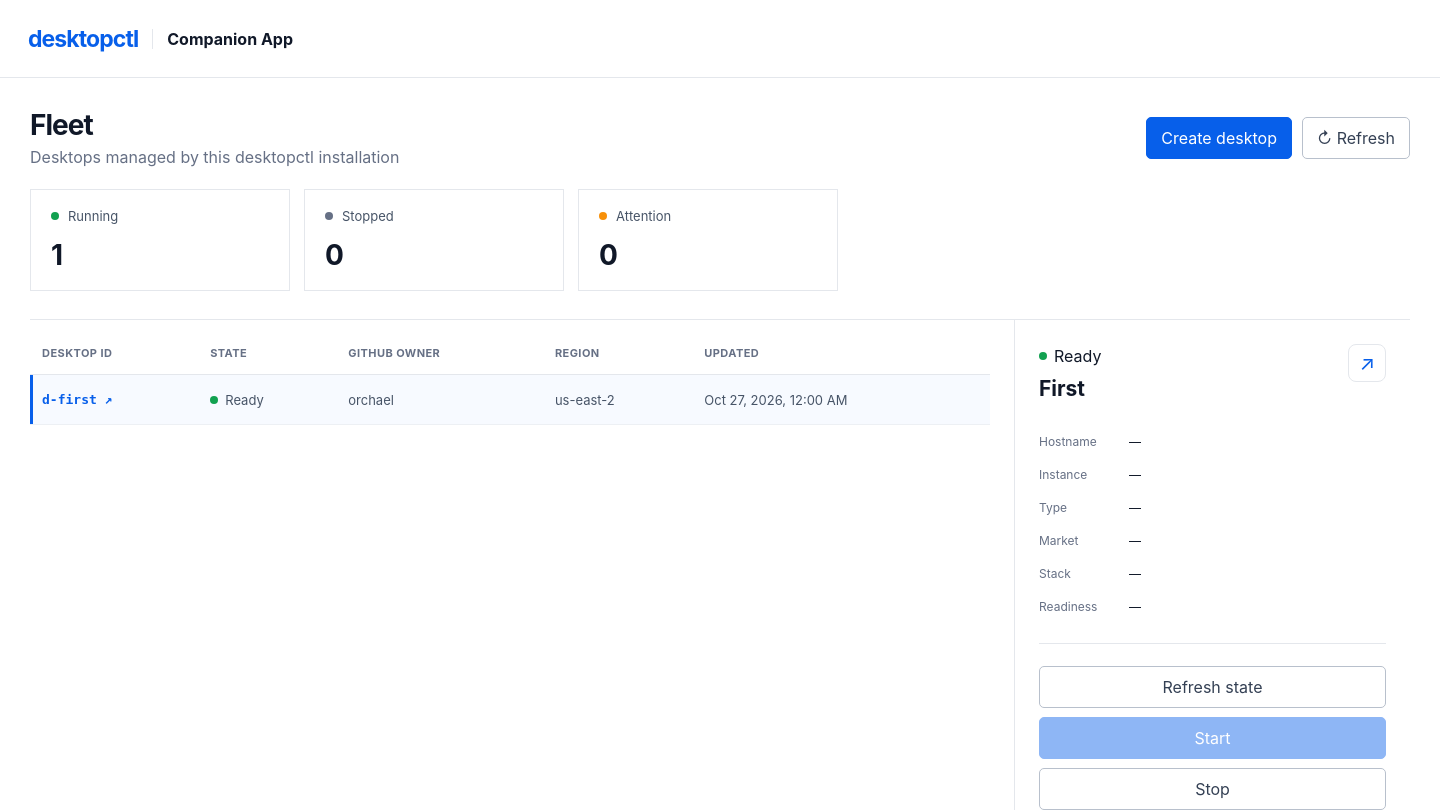
Test case: runs a lifecycle action from the selected desktop card
The image size is (1440, 810).
What coordinates should you click on to do the following:
click the button "Stop"
I would click on:
 (1212, 789)
Its box is 1039,768 -> 1386,809.
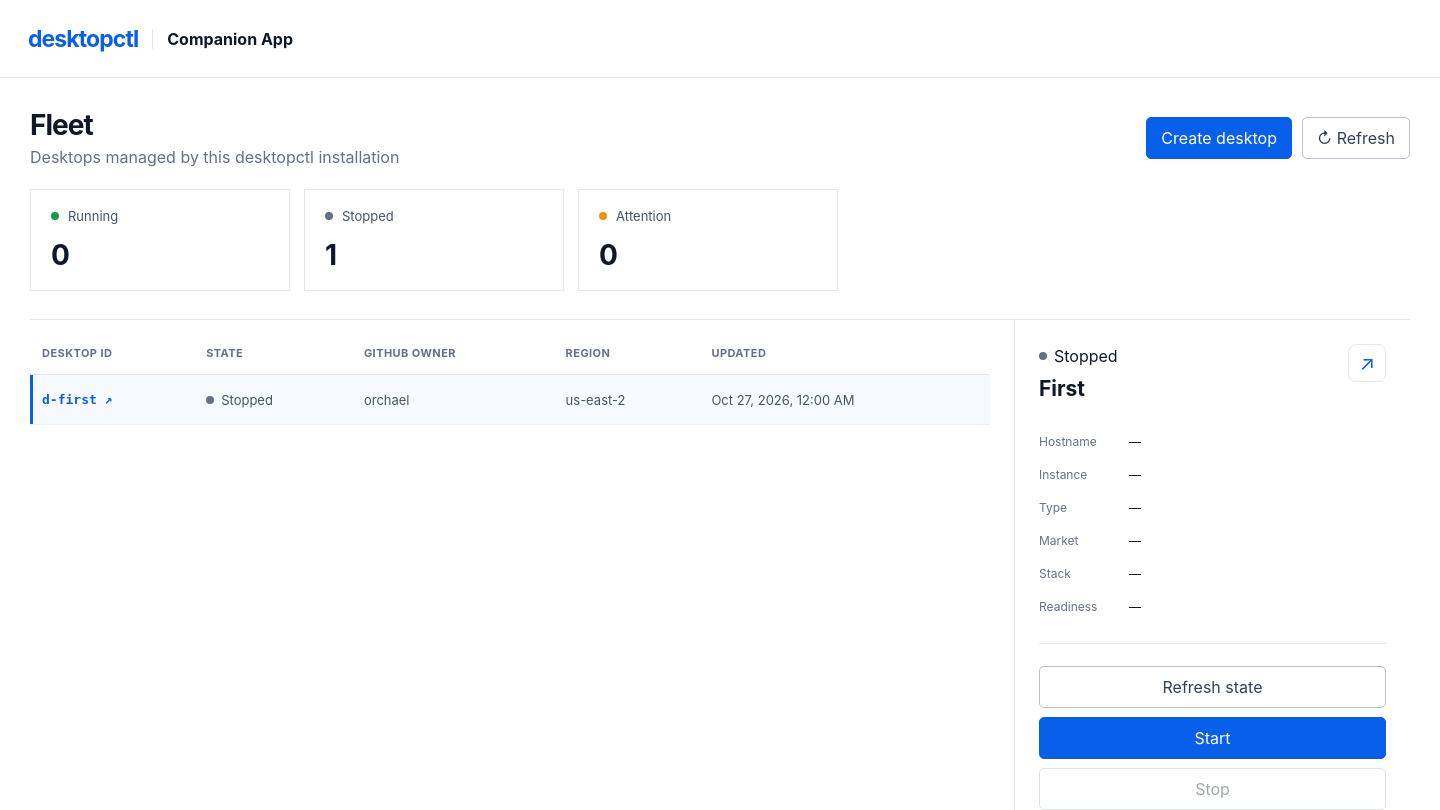
Check: the 1st text "stopped" is shown, box 1039,346 -> 1118,366
